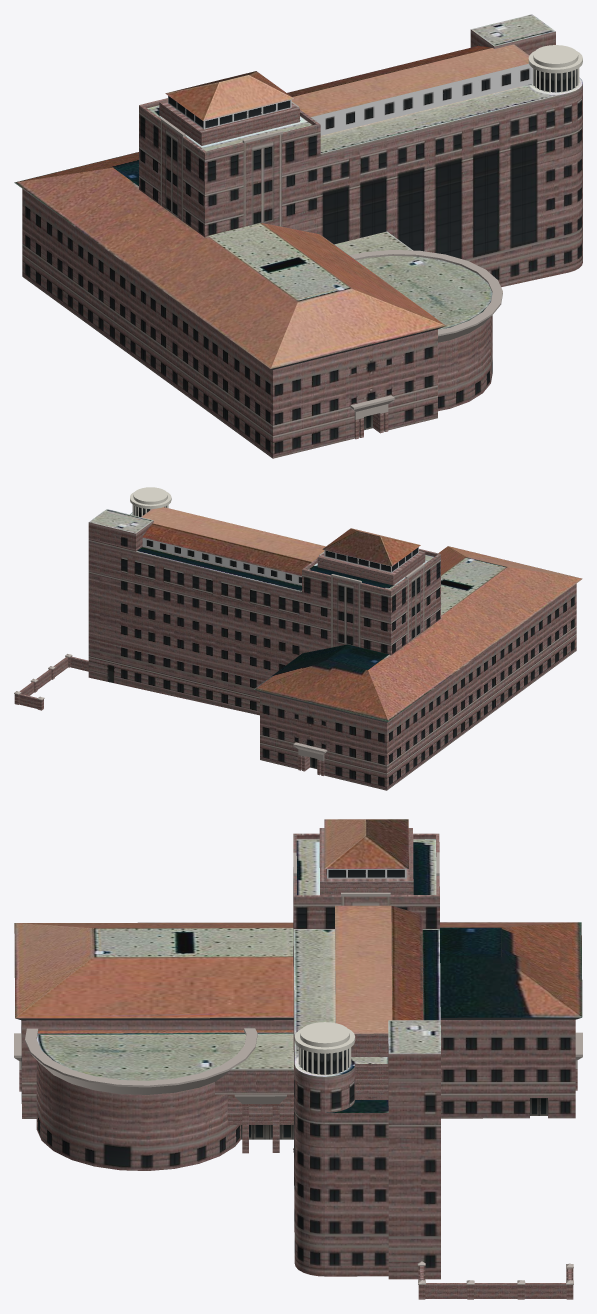
Rendered from BRNG.fbx.
The picture shows the model from 3 angles, top to bottom: view 1: azimuth 30°, elevation 25°; view 2: azimuth 150°, elevation 25°; view 3: azimuth 270°, elevation 25°; orthographic projection. The views are drawn at different scales.
Visible parts, largest first — view 1: Model, doorway2; view 2: Model, doorway1; view 3: Model.
Boxes of the visible parts, box(x1,y1,x2,y2) form: Model: box(14, 14, 582, 458); doorway2: box(350, 395, 394, 432); Model: box(19, 487, 582, 790); doorway1: box(293, 742, 327, 770); Model: box(14, 819, 582, 1298).
Size of the model in its own units: 3334 by 1579 by 2999.
